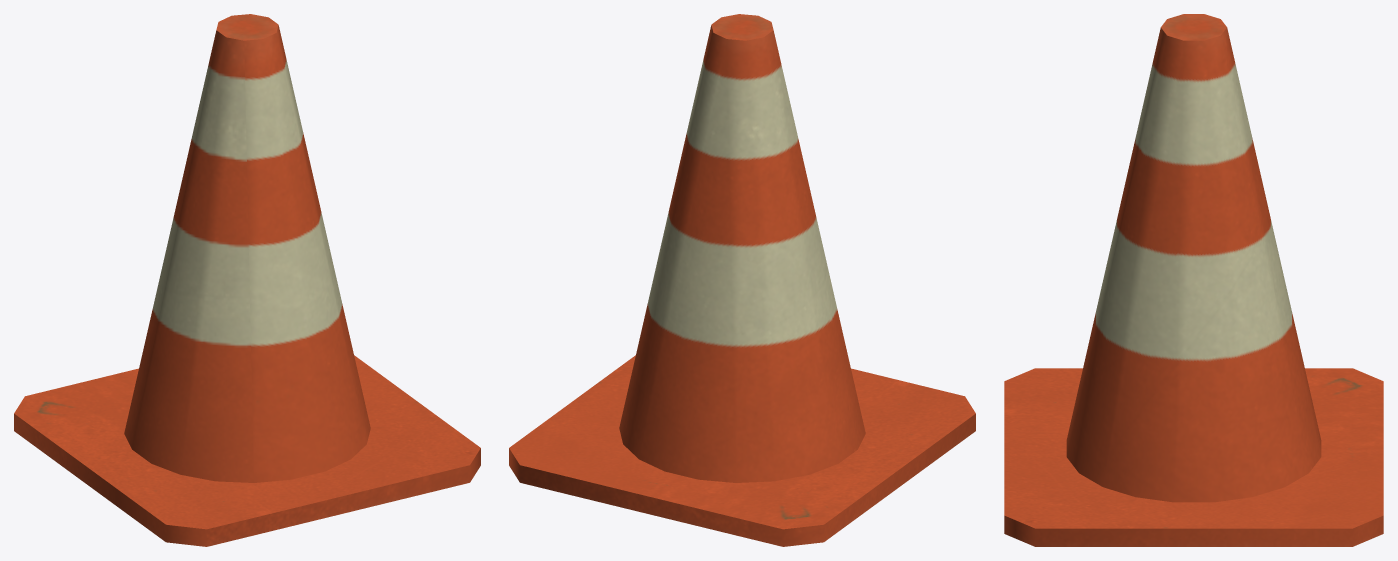
File: traf_cone.FBX
3 views of the same model, side by side, from view 1: azimuth 30°, elevation 25°; view 2: azimuth 150°, elevation 25°; view 3: azimuth 270°, elevation 25° (orthographic). The views are drawn at different scales.
Visible parts, largest first — view 1: traf_cone; view 2: traf_cone; view 3: traf_cone.
Boxes of the visible parts, x1,y1,x2,y2 form: traf_cone: (14,14,480,546); traf_cone: (509,14,975,546); traf_cone: (1004,14,1383,546).
Size of what is drawn, in the model's own units: 47.03 by 60.07 by 47.03.
1 material, 1 textured.
